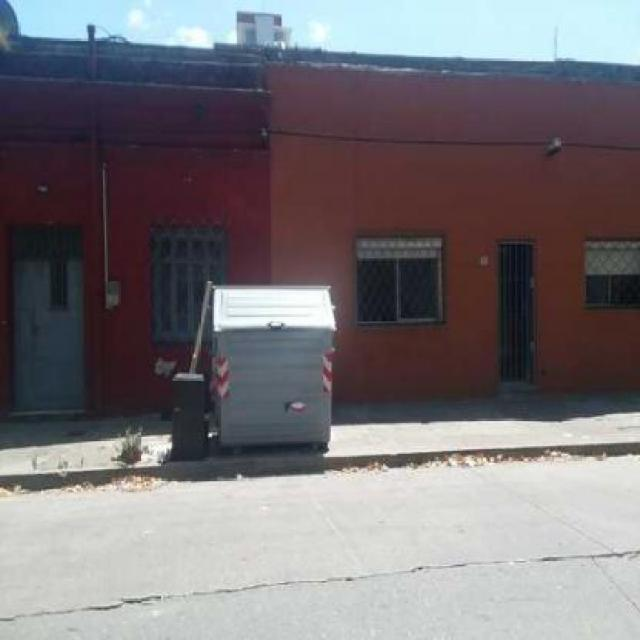garbage: (148, 352, 217, 498), (326, 446, 630, 470), (2, 473, 181, 496)
